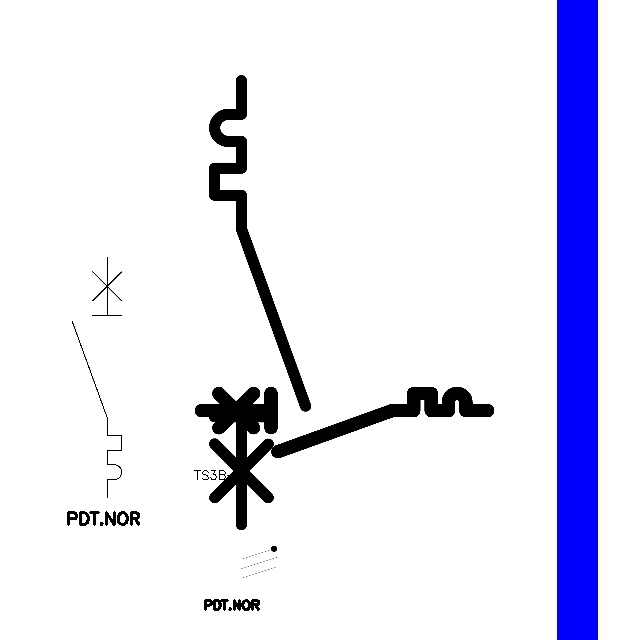interruptor_termomagnetico: (203, 69, 317, 536), (194, 386, 495, 459), (66, 251, 128, 504)
